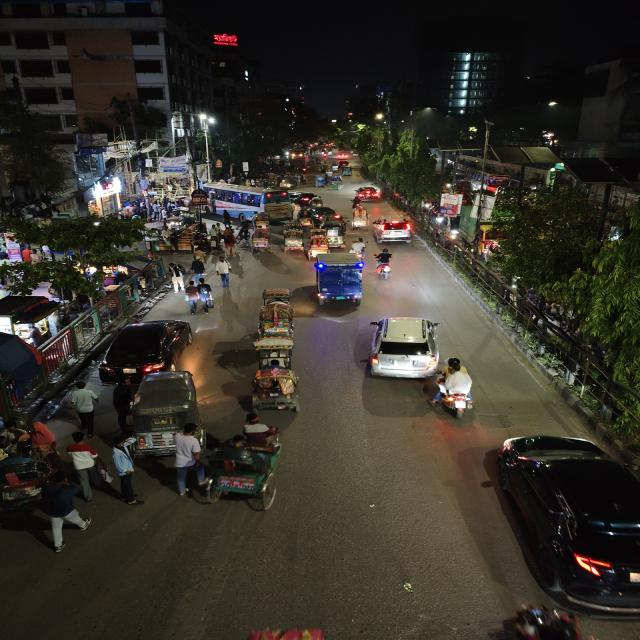bus: (199, 184, 298, 222)
car: (479, 426, 640, 626), (94, 316, 196, 382), (363, 313, 448, 382), (0, 292, 65, 338), (371, 215, 416, 245), (309, 206, 342, 224), (353, 185, 382, 202)
cng: (130, 368, 200, 432), (342, 166, 353, 176)
motorcycle: (427, 356, 486, 422), (373, 248, 396, 280), (350, 237, 368, 257)
pedestrian: (30, 476, 90, 546), (165, 422, 205, 500), (63, 430, 106, 502), (102, 438, 144, 502), (65, 382, 101, 432), (108, 380, 137, 430), (0, 422, 29, 459), (212, 254, 234, 290), (183, 281, 203, 314), (196, 280, 216, 312), (219, 228, 240, 258), (167, 262, 186, 292), (189, 255, 208, 282), (350, 237, 368, 257)
rickshaw: (203, 428, 293, 512), (247, 302, 300, 376), (0, 449, 55, 516), (247, 360, 303, 414), (254, 294, 297, 340), (279, 224, 306, 253), (247, 227, 273, 256), (321, 220, 346, 244), (304, 236, 329, 259), (350, 203, 368, 230), (313, 172, 329, 189), (330, 176, 343, 190)
truck: (310, 251, 366, 309)
